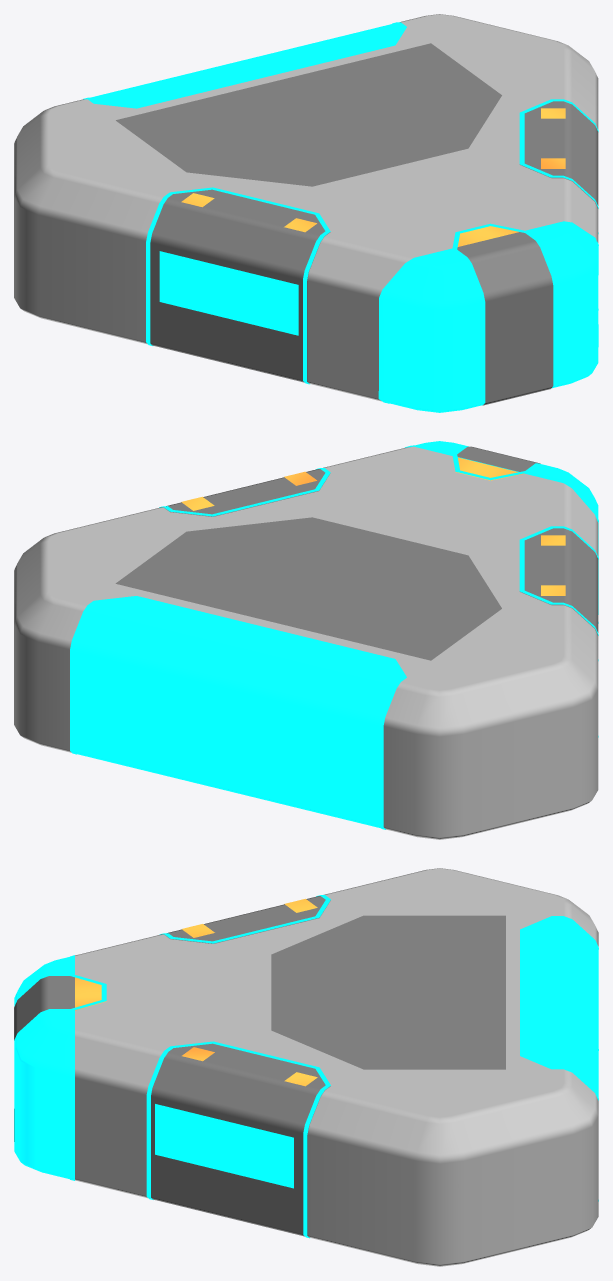
Rendered from FUT0110004.fbx.
3 renders of one model, top to bottom at view 1: azimuth 30°, elevation 25°; view 2: azimuth 150°, elevation 25°; view 3: azimuth 270°, elevation 25°, orthographic.
Parts seen in each view (by area): view 1: smFUT0110004; view 2: smFUT0110004; view 3: smFUT0110004.
Part boxes in pixels (x1=…): smFUT0110004: x1=14, y1=14, x2=598, y2=412; smFUT0110004: x1=14, y1=441, x2=598, y2=839; smFUT0110004: x1=14, y1=868, x2=598, y2=1266.
Size of the model in its own units: 104 by 23.92 by 92.28.
Materials: 1 (1 with a texture image).
